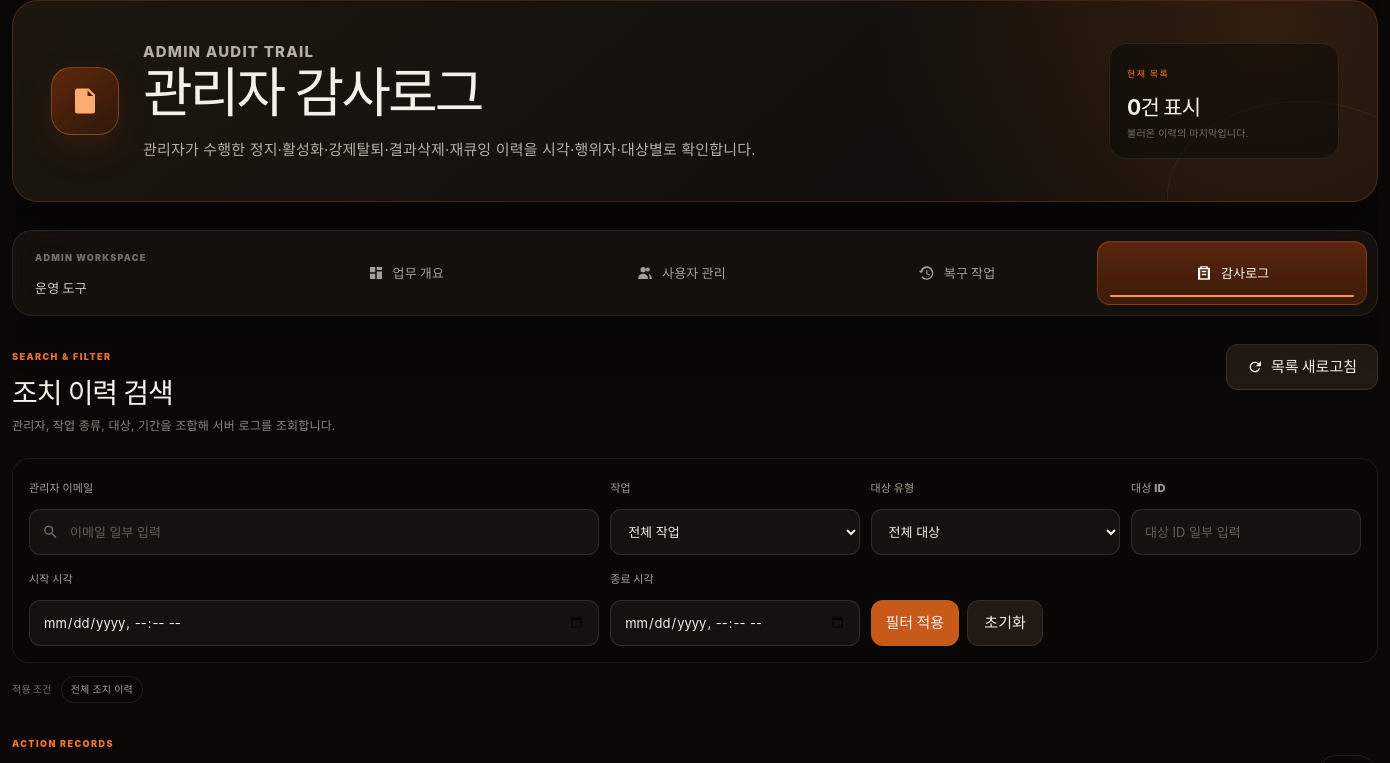
AdminAuditLogPage › sends administrator, action, target, and date filters to the server
This screenshot has width=1390, height=763.
Type " admin@example.com " into the search field labelled "관리자 이메일" at coordinates (314, 532), box [29, 509, 599, 555]
Select "스토리지 삭제 재큐잉" in the dropdown labelled "작업" at coordinates (735, 532), box [610, 509, 860, 555]
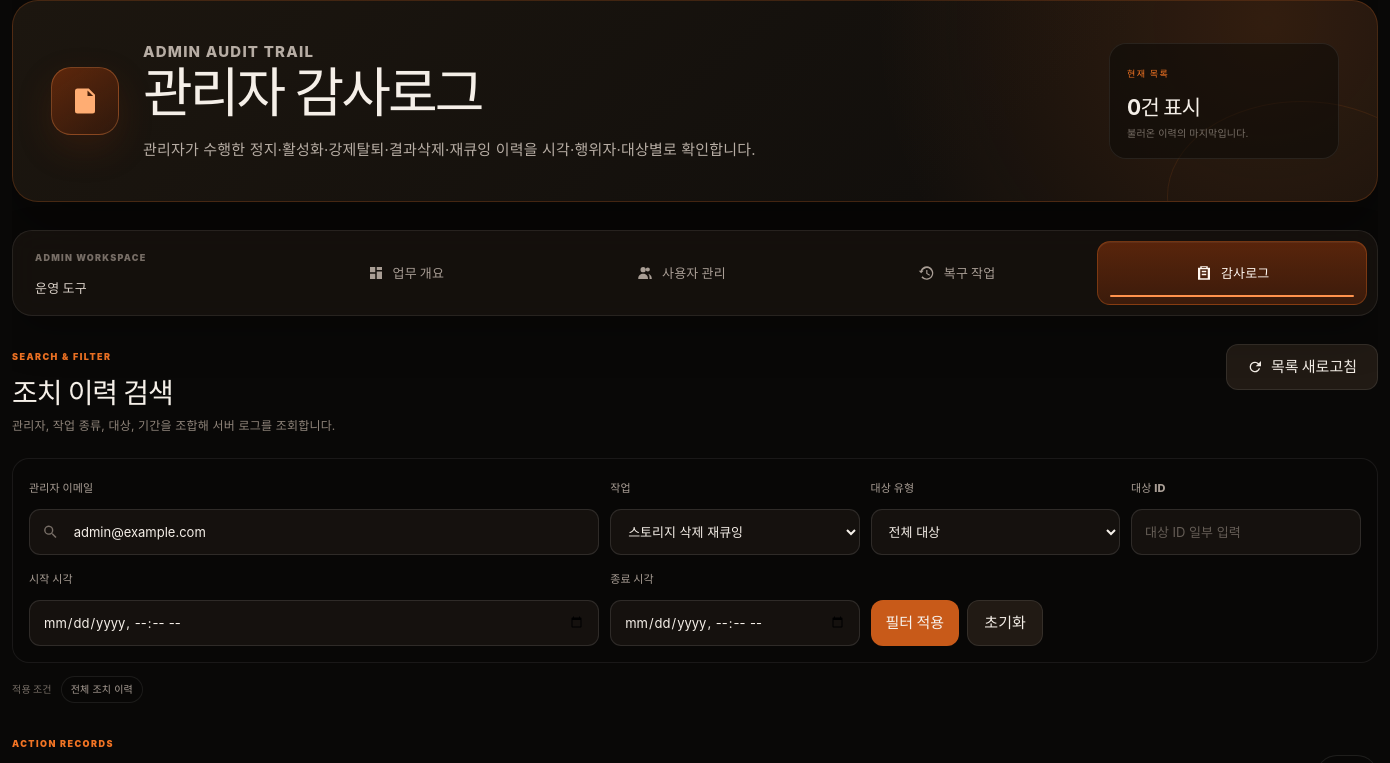
Select "스토리지 삭제 작업" in the dropdown labelled "대상 유형" at coordinates (995, 532), box [871, 509, 1120, 555]
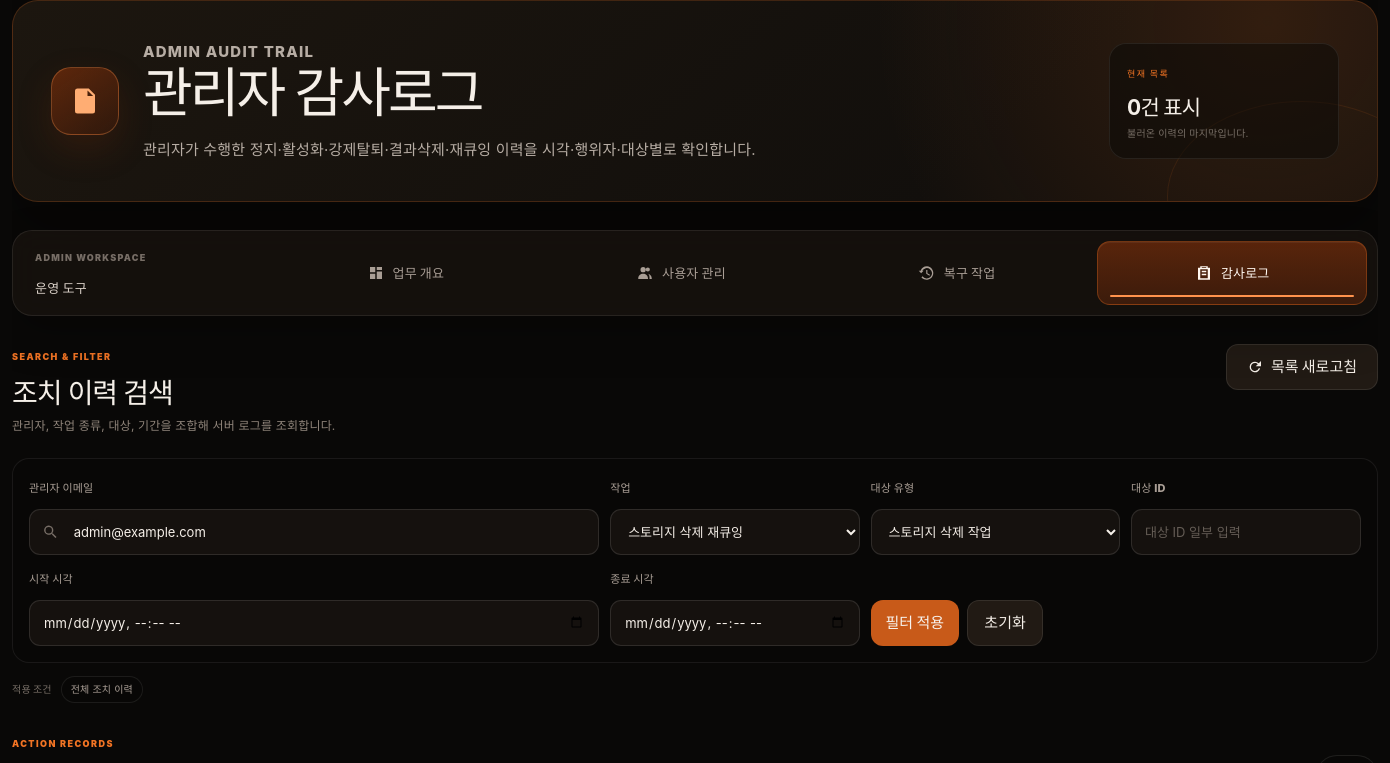
Type " 77 " into the search field labelled "대상 ID" at coordinates (1246, 532), box [1131, 509, 1361, 555]
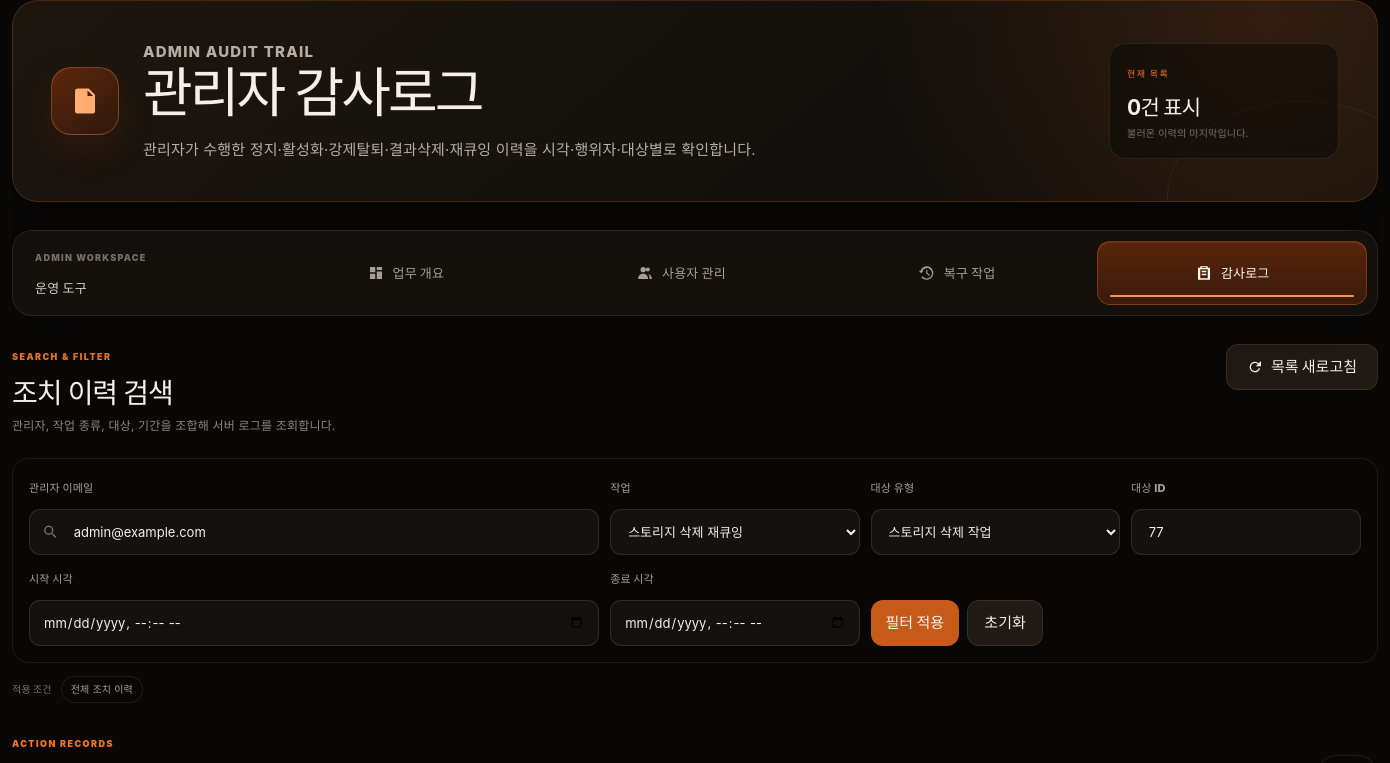
Type "2026-08-01T00:00" into the field labelled "시작 시각" at coordinates (314, 623), box [29, 600, 599, 646]
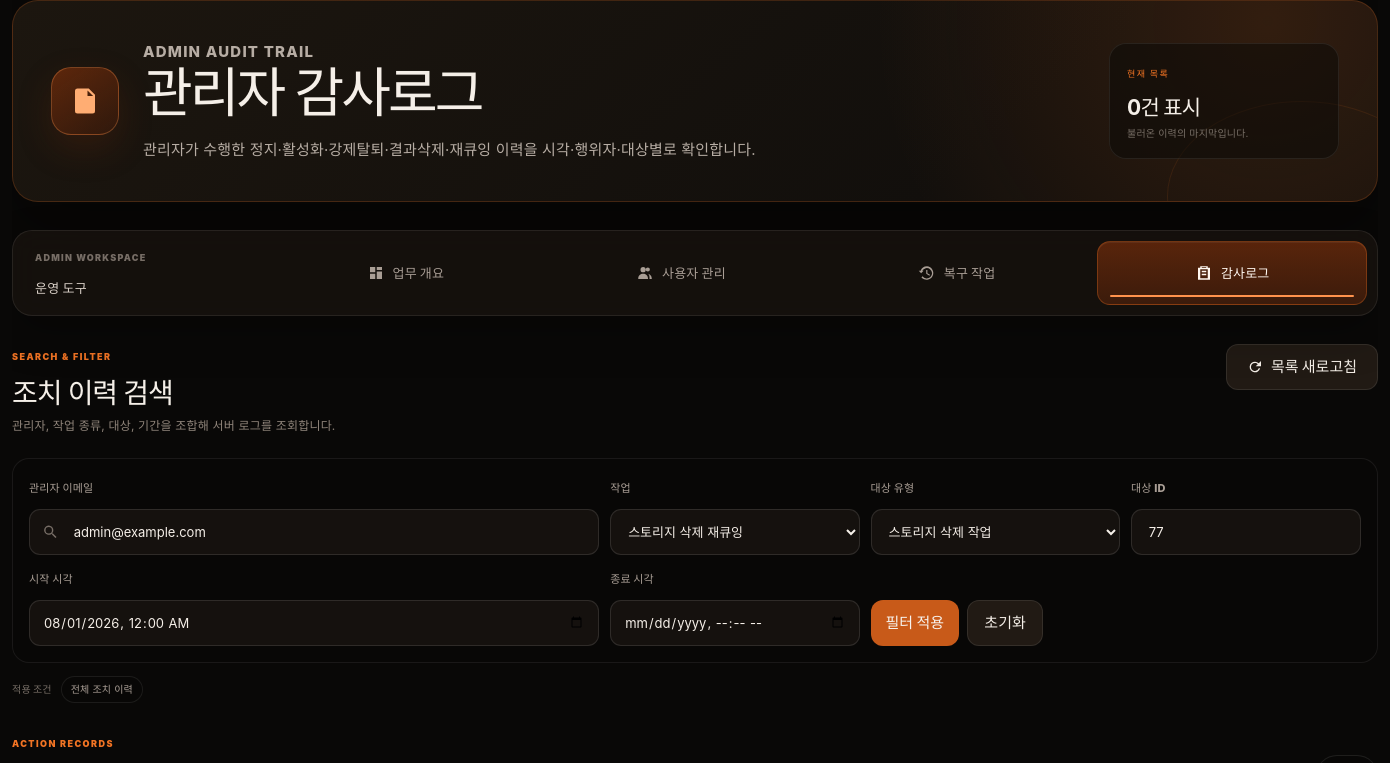
Type "2026-08-02T00:00" into the field labelled "종료 시각" at coordinates (735, 623), box [610, 600, 860, 646]
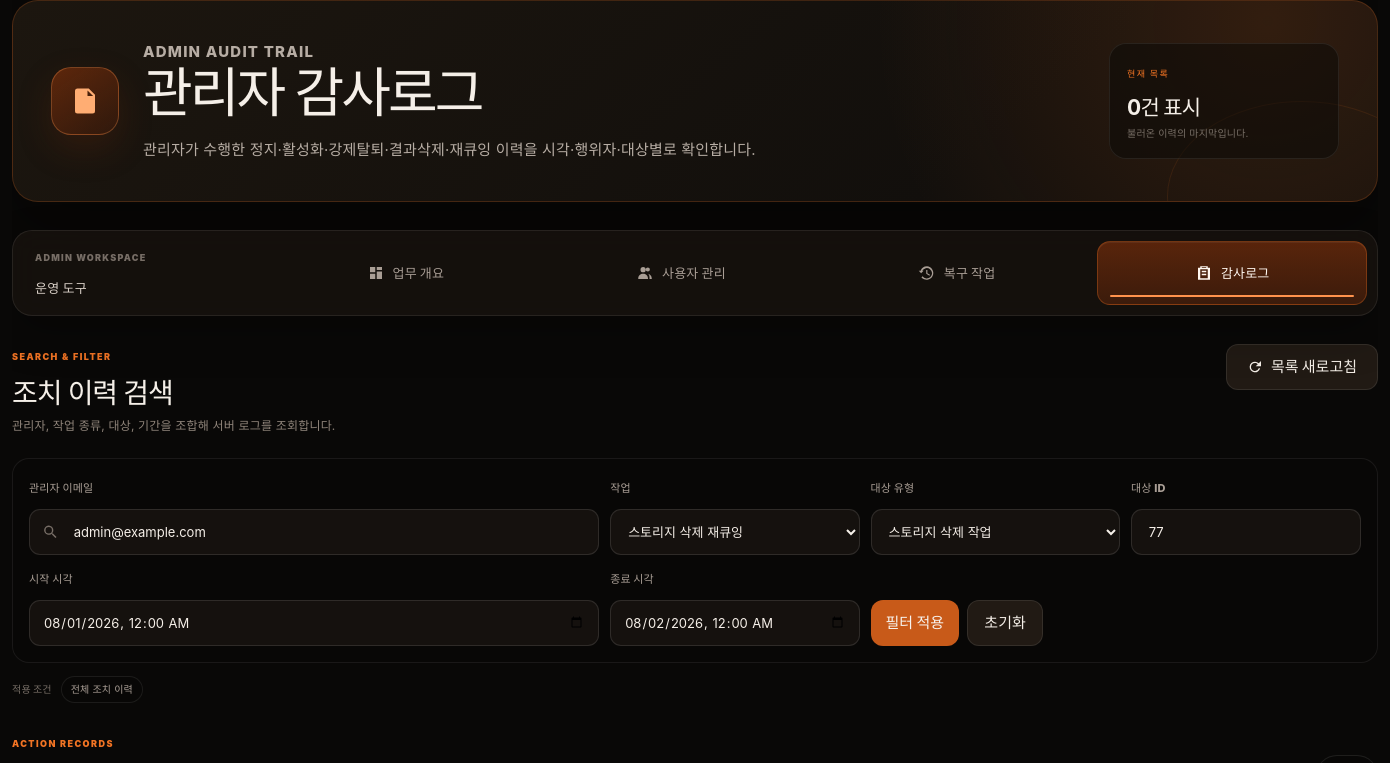
Click the button "필터 적용" at coordinates (915, 623), box [871, 600, 959, 646]
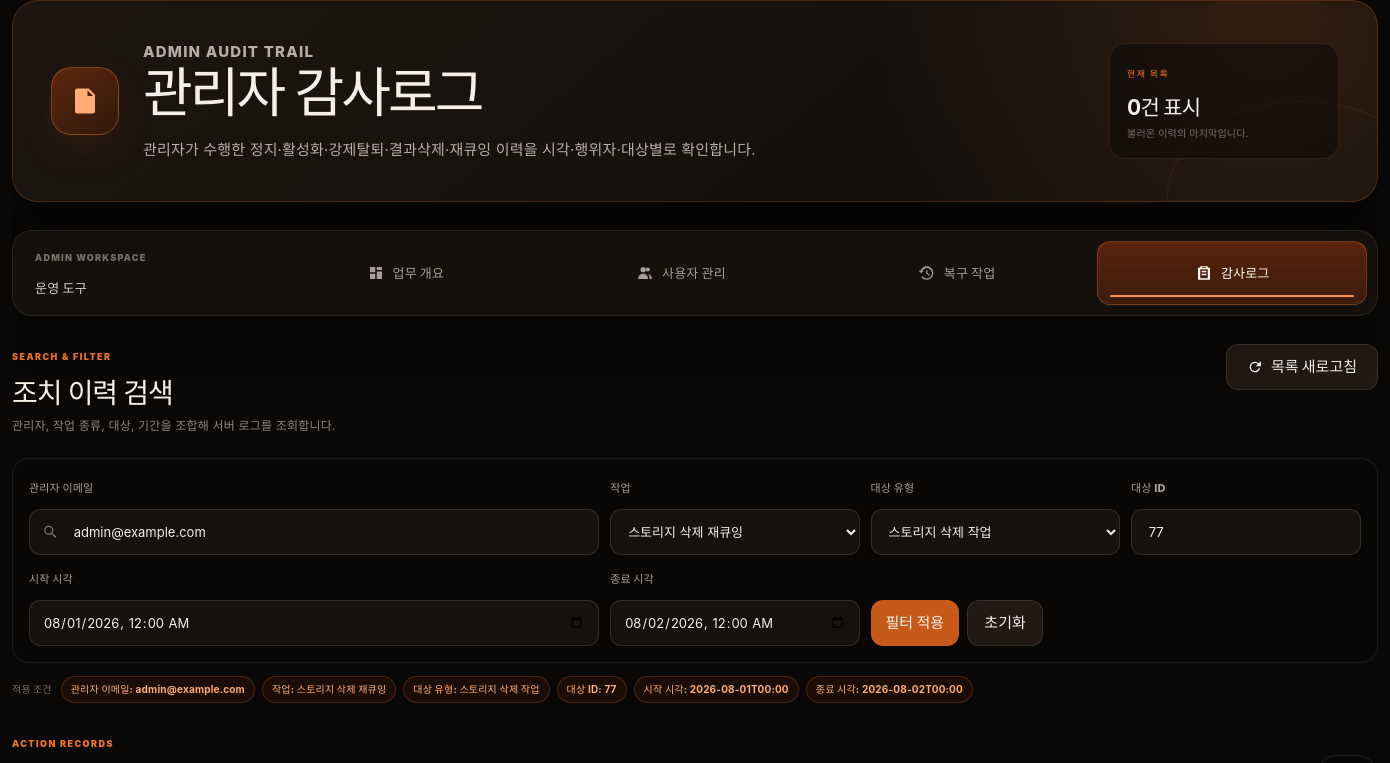
Now the text "관리자 이메일: admin@example.com" is shown, box [61, 676, 255, 703]
Now the text "작업: 스토리지 삭제 재큐잉" is shown, box [262, 676, 396, 703]
Now the text "대상 유형: 스토리지 삭제 작업" is shown, box [403, 676, 550, 703]
